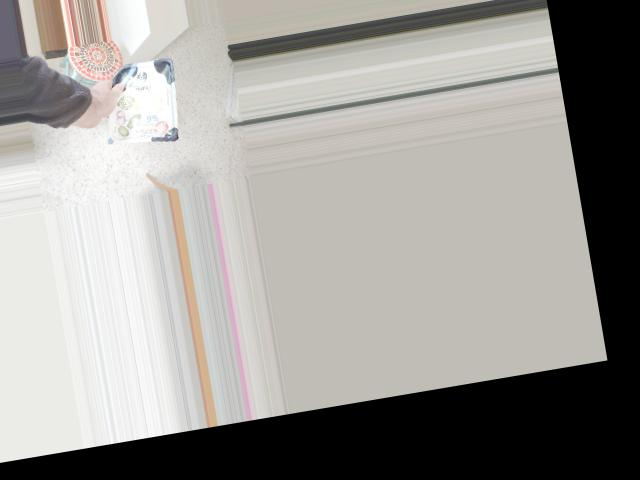cheese: (71, 60, 168, 155)
